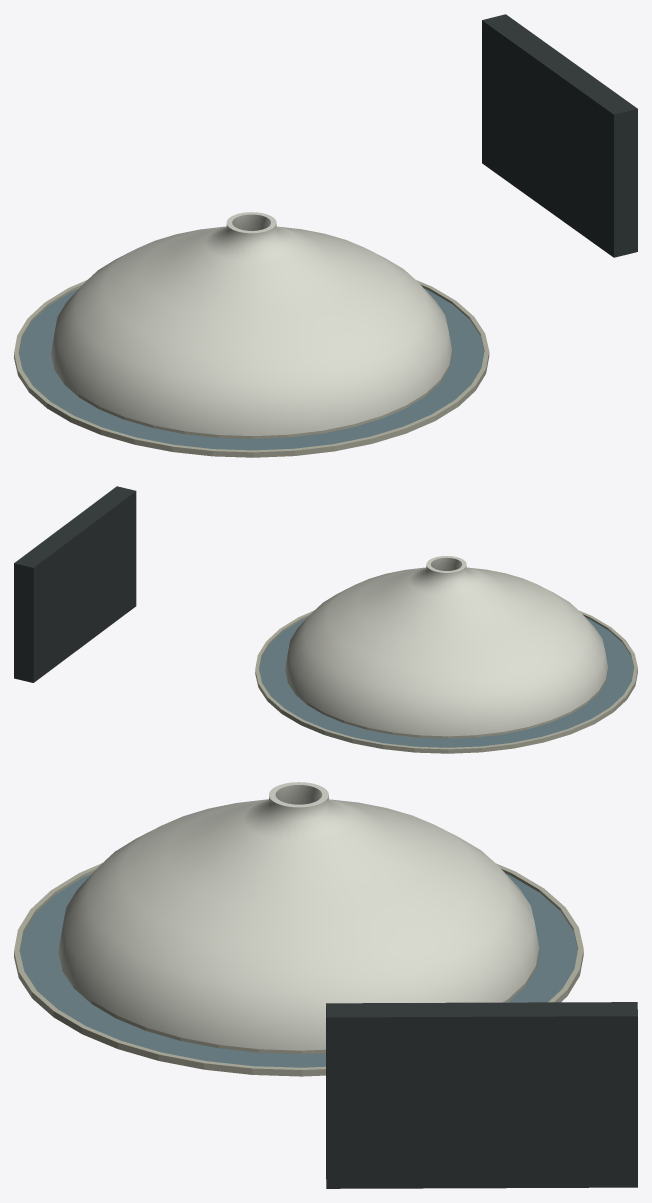
File: shrine-of-the-book-near.glb
The picture shows the model from 3 angles, top to bottom: view 1: azimuth 30°, elevation 25°; view 2: azimuth 150°, elevation 25°; view 3: azimuth 270°, elevation 25°; orthographic projection. The views are drawn at different scales.
Visible parts, largest first — view 1: shrine-of-the-book-0-lamp, shrine-of-the-book-0-basalt, shrine-of-the-book-0-water, shrine-of-the-book-0-stone; view 2: shrine-of-the-book-0-lamp, shrine-of-the-book-0-basalt, shrine-of-the-book-0-water, shrine-of-the-book-0-stone; view 3: shrine-of-the-book-0-lamp, shrine-of-the-book-0-basalt, shrine-of-the-book-0-water, shrine-of-the-book-0-stone.
Boxes of the visible parts, left/top/right/bottom form: shrine-of-the-book-0-lamp: left=51, top=212, right=451, bottom=436; shrine-of-the-book-0-basalt: left=482, top=14, right=637, bottom=257; shrine-of-the-book-0-water: left=19, top=288, right=484, bottom=450; shrine-of-the-book-0-stone: left=14, top=280, right=489, bottom=457; shrine-of-the-book-0-lamp: left=285, top=556, right=607, bottom=736; shrine-of-the-book-0-basalt: left=14, top=486, right=136, bottom=682; shrine-of-the-book-0-water: left=259, top=617, right=633, bottom=747; shrine-of-the-book-0-stone: left=255, top=610, right=637, bottom=753; shrine-of-the-book-0-lamp: left=58, top=782, right=539, bottom=1050; shrine-of-the-book-0-basalt: left=326, top=1002, right=637, bottom=1188; shrine-of-the-book-0-water: left=20, top=873, right=577, bottom=1067; shrine-of-the-book-0-stone: left=14, top=863, right=583, bottom=1076.
Bounding box in the file's own units: 37.54 × 8.5 × 28.03.
